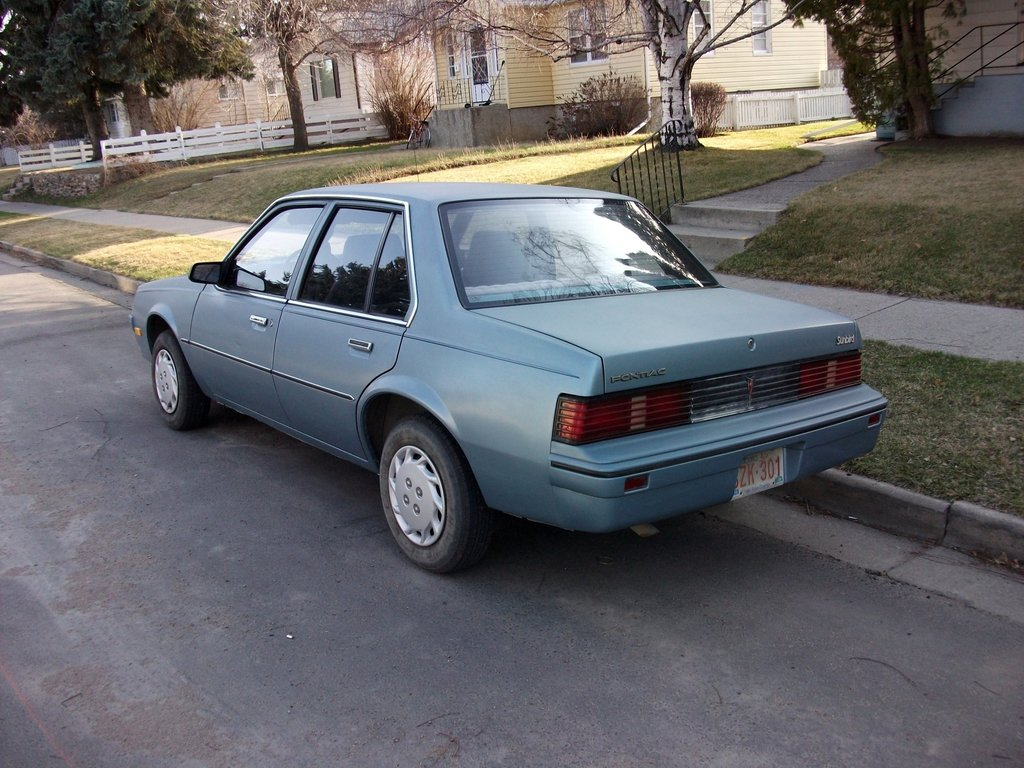car: (113, 166, 902, 598)
